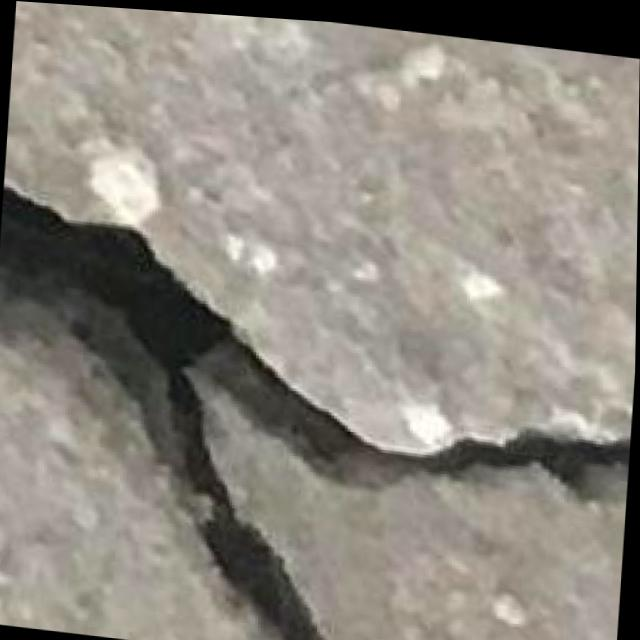Crack: (0, 167, 638, 640)
